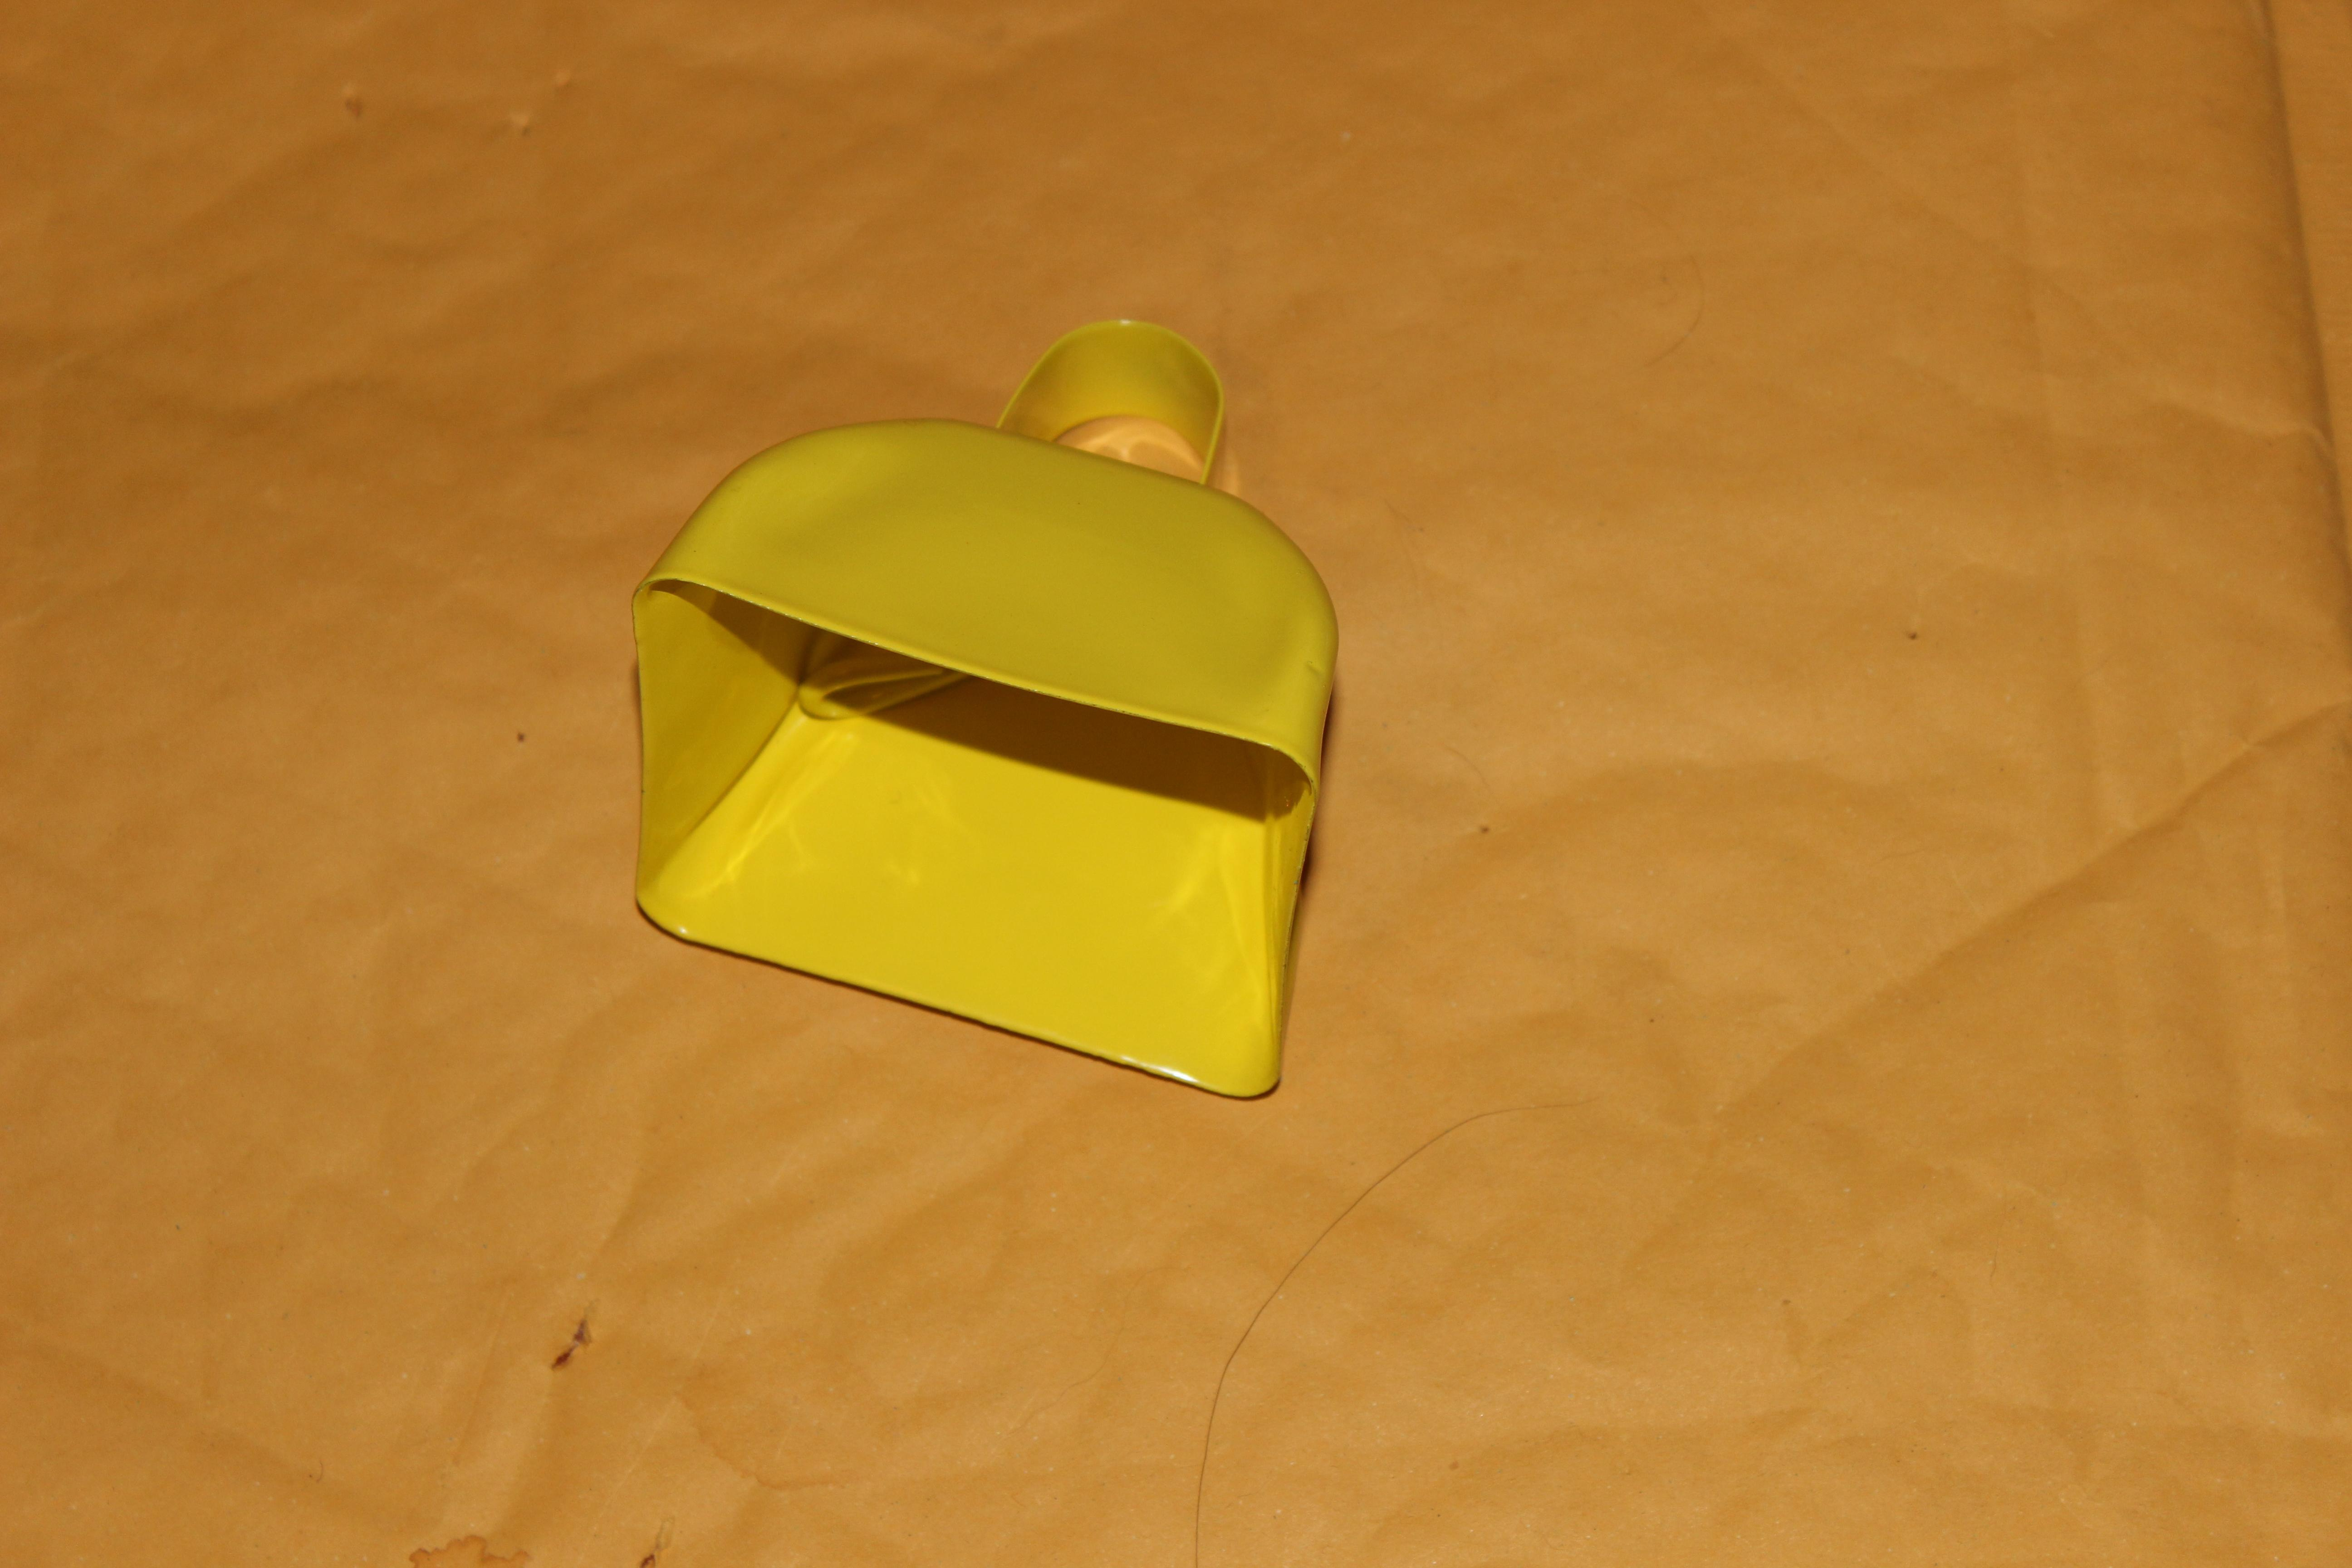cowbell: (577, 289, 1409, 1143)
